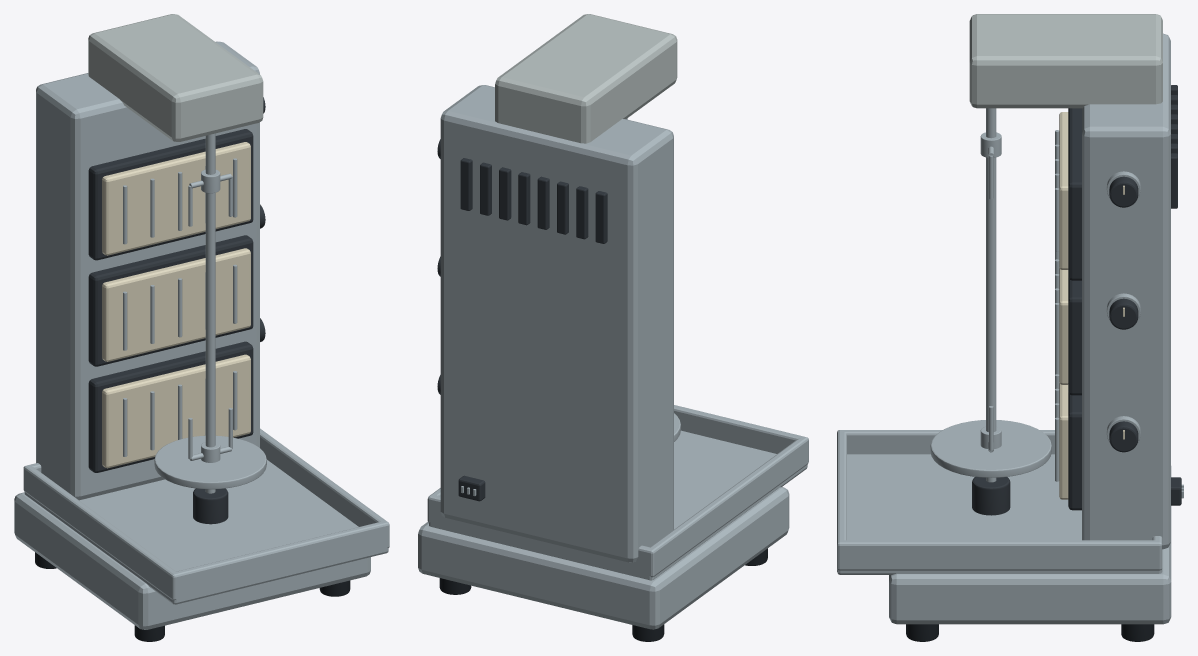
The model's file is city-vertical-rotisserie-spit.glb.
3 renders of one model, left to right at view 1: azimuth 30°, elevation 25°; view 2: azimuth 150°, elevation 25°; view 3: azimuth 270°, elevation 25°, orthographic. The views are drawn at different scales.
Visible parts, largest first — view 1: Assembly | Brushed exposed steel, Assembly | Warm cream enamel, Assembly | Powder-coated light service metal, Assembly | Dark mechanism trim, Assembly | Rubber feet and hoses; view 2: Assembly | Brushed exposed steel, Assembly | Powder-coated light service metal, Assembly | Dark mechanism trim, Assembly | Rubber feet and hoses; view 3: Assembly | Brushed exposed steel, Assembly | Powder-coated light service metal, Assembly | Dark mechanism trim, Assembly | Warm cream enamel, Assembly | Rubber feet and hoses.
Part boxes in pixels (box(x1,y1,x2,y2)): Assembly | Brushed exposed steel: box(14, 41, 389, 629); Assembly | Warm cream enamel: box(102, 142, 261, 468); Assembly | Powder-coated light service metal: box(88, 14, 263, 141); Assembly | Dark mechanism trim: box(88, 97, 265, 524); Assembly | Rubber feet and hoses: box(35, 552, 350, 641); Assembly | Brushed exposed steel: box(418, 85, 808, 629); Assembly | Powder-coated light service metal: box(495, 14, 677, 143); Assembly | Dark mechanism trim: box(437, 139, 607, 501); Assembly | Rubber feet and hoses: box(439, 548, 767, 641); Assembly | Brushed exposed steel: box(837, 33, 1183, 624); Assembly | Powder-coated light service metal: box(969, 14, 1162, 108); Assembly | Dark mechanism trim: box(972, 85, 1181, 515); Assembly | Warm cream enamel: box(1059, 112, 1124, 499); Assembly | Rubber feet and hoses: box(906, 624, 1154, 641).
Bounding box in the file's own units: 0.438 × 0.9225 × 0.5255.
